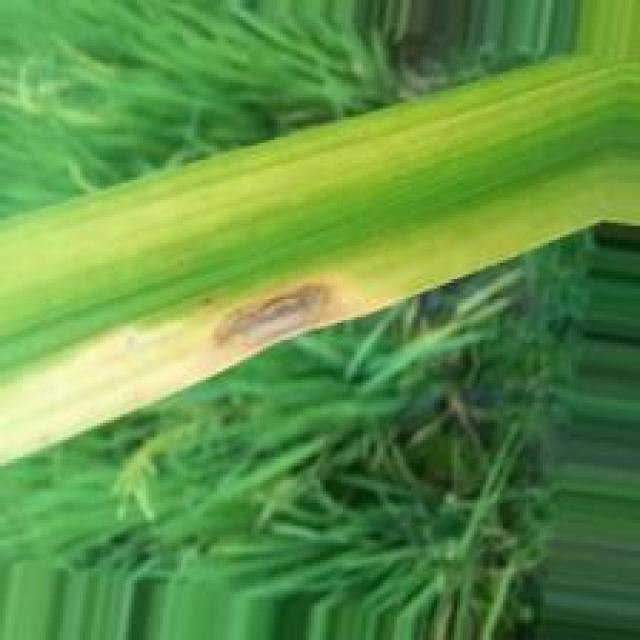Leaf_Blast: (0, 269, 368, 470)
